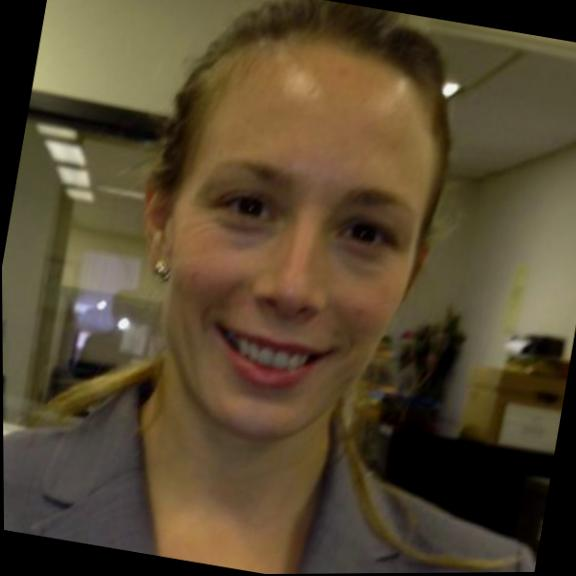no_safety_vest: (3, 369, 551, 576)
